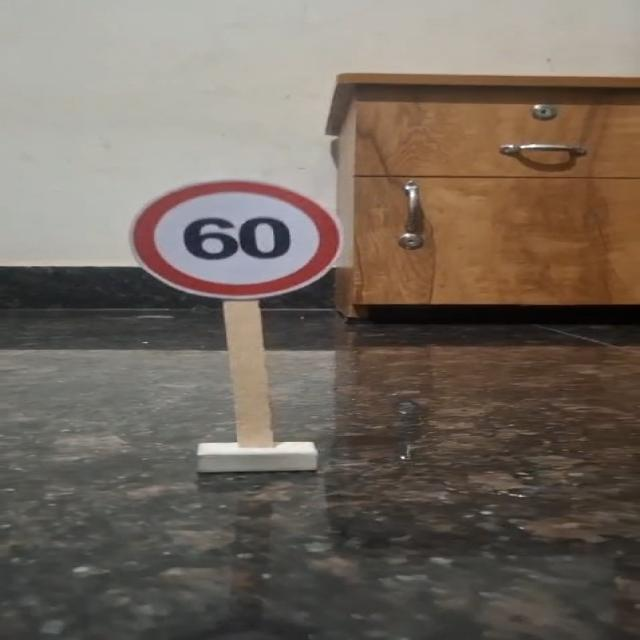Speed60: (107, 169, 357, 304)
